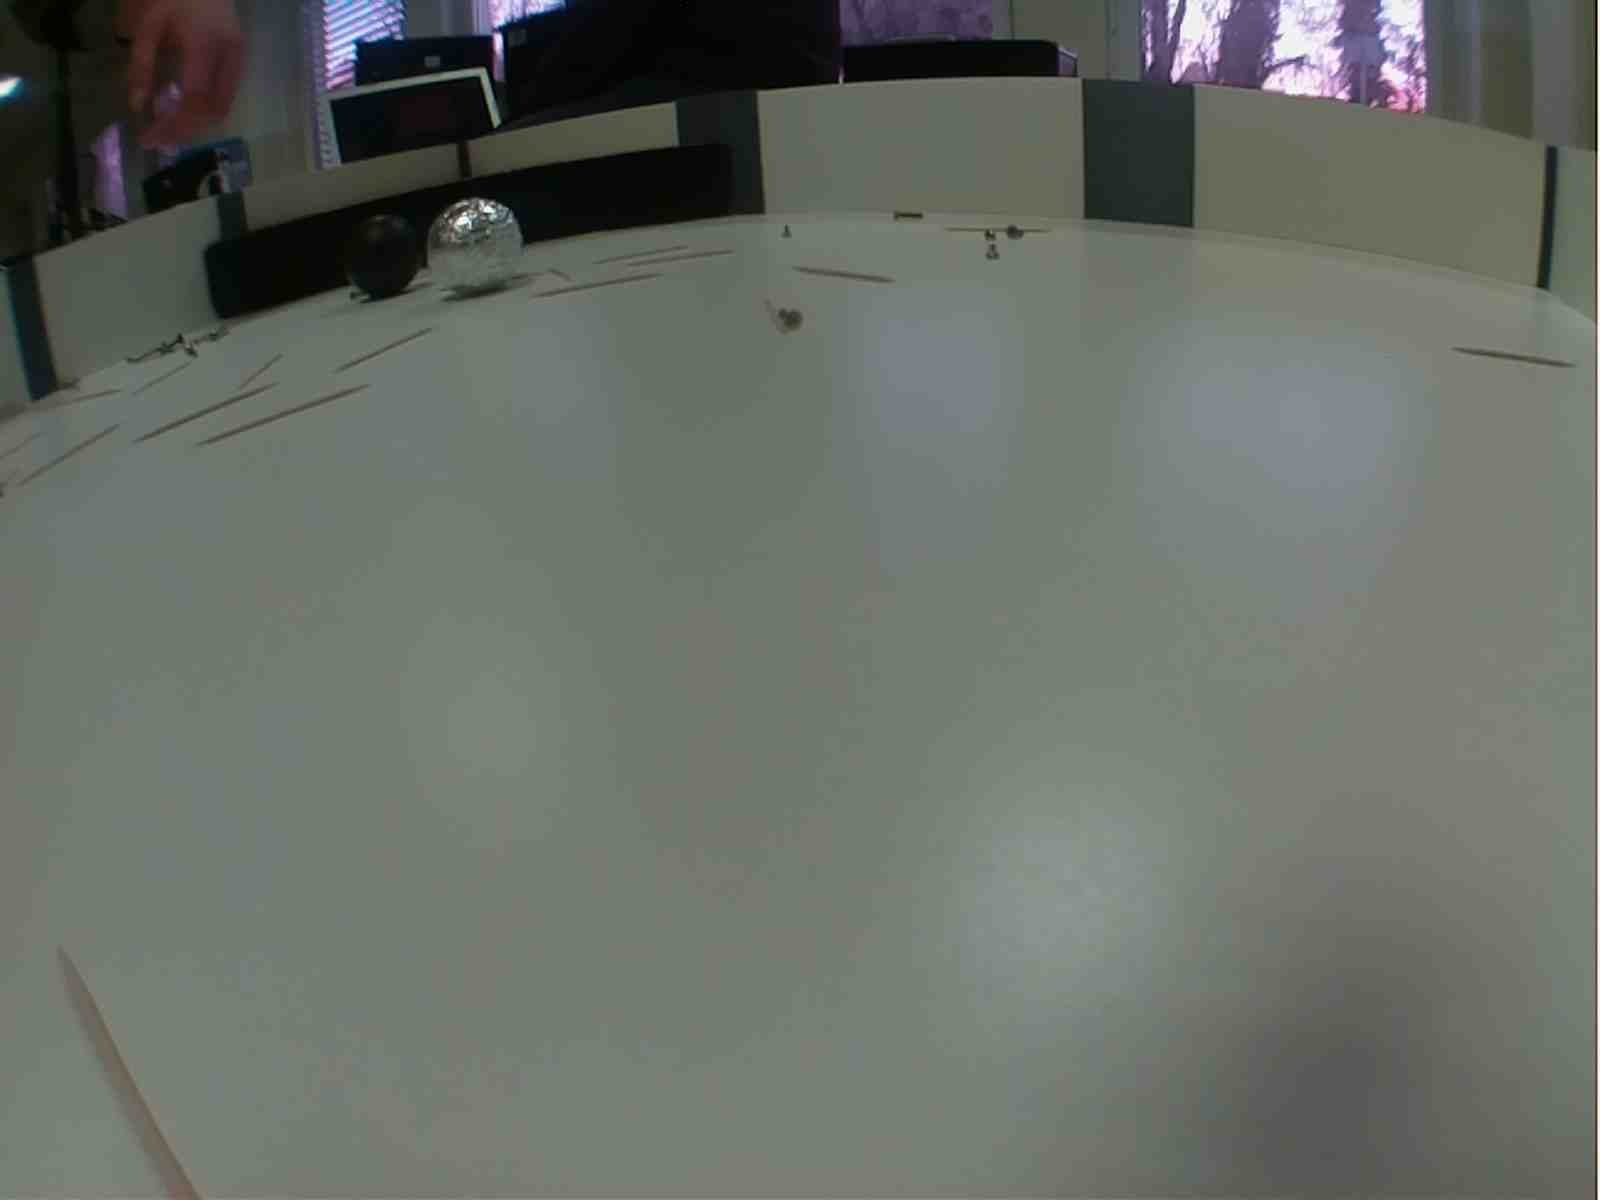bianca: (425, 195, 525, 297)
nera: (343, 218, 420, 296)
